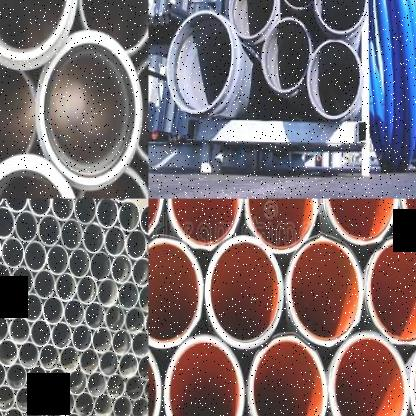pipe: (35, 29, 143, 189), (204, 236, 284, 350), (286, 233, 364, 347), (166, 10, 234, 113), (328, 330, 409, 416), (248, 330, 327, 416), (164, 334, 246, 416), (148, 234, 203, 348), (363, 234, 416, 346), (0, 0, 78, 70), (0, 61, 43, 172), (307, 39, 362, 120), (167, 198, 243, 251), (244, 199, 318, 253), (261, 18, 311, 93), (79, 0, 148, 54), (0, 153, 80, 198), (322, 198, 398, 245), (77, 166, 148, 199), (228, 0, 276, 40), (313, 0, 365, 34), (399, 198, 416, 249), (13, 210, 38, 242), (37, 214, 61, 246), (124, 228, 148, 260), (0, 236, 24, 268), (67, 246, 90, 279), (118, 199, 140, 232), (60, 217, 82, 250), (82, 221, 104, 254), (10, 265, 34, 295), (104, 225, 126, 257), (46, 243, 68, 275), (117, 280, 139, 311), (24, 240, 46, 271), (89, 250, 111, 281), (110, 253, 132, 284), (408, 330, 416, 415), (33, 269, 55, 299), (54, 272, 76, 302), (96, 277, 118, 307), (42, 295, 64, 325), (95, 198, 117, 228), (0, 288, 21, 319), (20, 293, 42, 322), (75, 276, 97, 304), (124, 306, 146, 334), (8, 316, 30, 344), (30, 319, 52, 347), (5, 362, 27, 390), (26, 364, 48, 392), (63, 298, 84, 327), (58, 346, 80, 373), (78, 348, 100, 375), (54, 389, 76, 416), (104, 304, 125, 332), (51, 321, 72, 349), (71, 324, 92, 352), (38, 343, 59, 371), (47, 366, 68, 394), (73, 198, 96, 223), (14, 386, 36, 412), (110, 329, 131, 356), (84, 301, 104, 329), (92, 326, 112, 354), (18, 340, 38, 368), (66, 368, 86, 396), (124, 374, 145, 400), (35, 388, 56, 414), (118, 352, 138, 379), (130, 257, 148, 287), (99, 350, 119, 376), (86, 371, 106, 397), (106, 372, 126, 398), (130, 330, 148, 358), (0, 338, 18, 366), (50, 198, 74, 219), (74, 391, 94, 416), (0, 205, 15, 238), (94, 392, 113, 416), (112, 394, 132, 416), (0, 384, 15, 410), (278, 0, 321, 9), (27, 199, 51, 215), (130, 396, 148, 416), (0, 261, 11, 291), (138, 283, 148, 313), (3, 199, 28, 211), (137, 354, 148, 380), (139, 203, 148, 234), (0, 312, 8, 340), (3, 405, 23, 416), (23, 407, 43, 416), (0, 359, 6, 387), (43, 409, 63, 416), (144, 308, 148, 336), (144, 376, 148, 402), (62, 411, 82, 416), (82, 413, 100, 416), (0, 404, 3, 416)
